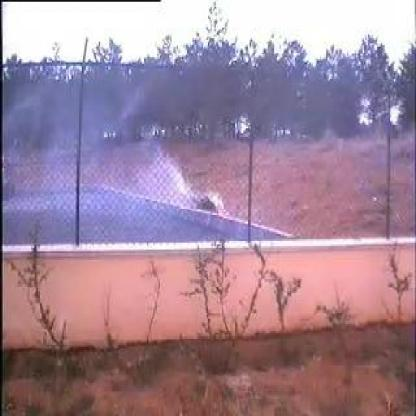-: (15, 90, 194, 241)
